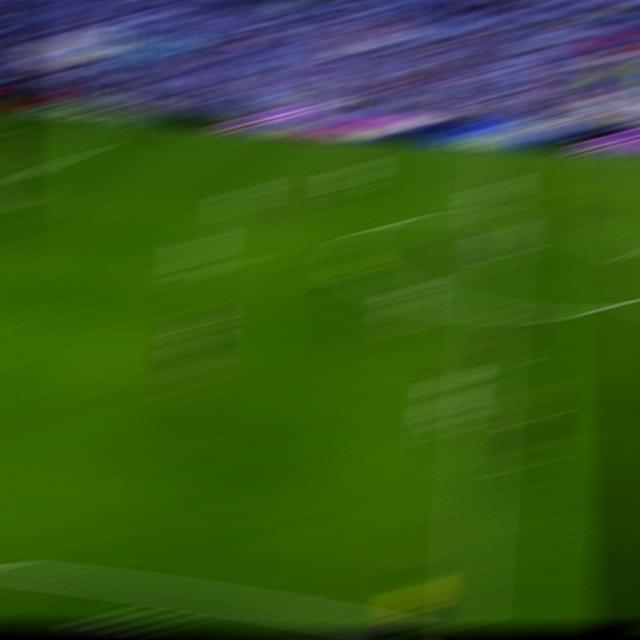bigarea_bottom_outter: (2, 173, 31, 183)
halfcircle_bottom: (472, 300, 507, 320)
halfcircle_top: (481, 210, 513, 225)
midline_bottom_intersection: (445, 624, 485, 627)
midline_top_intersection: (488, 147, 517, 154)
